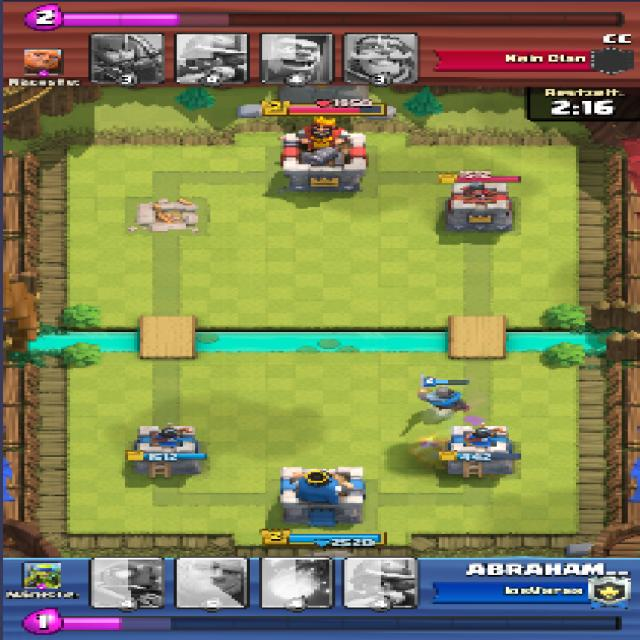Player-Knight: (416, 387, 473, 412)
